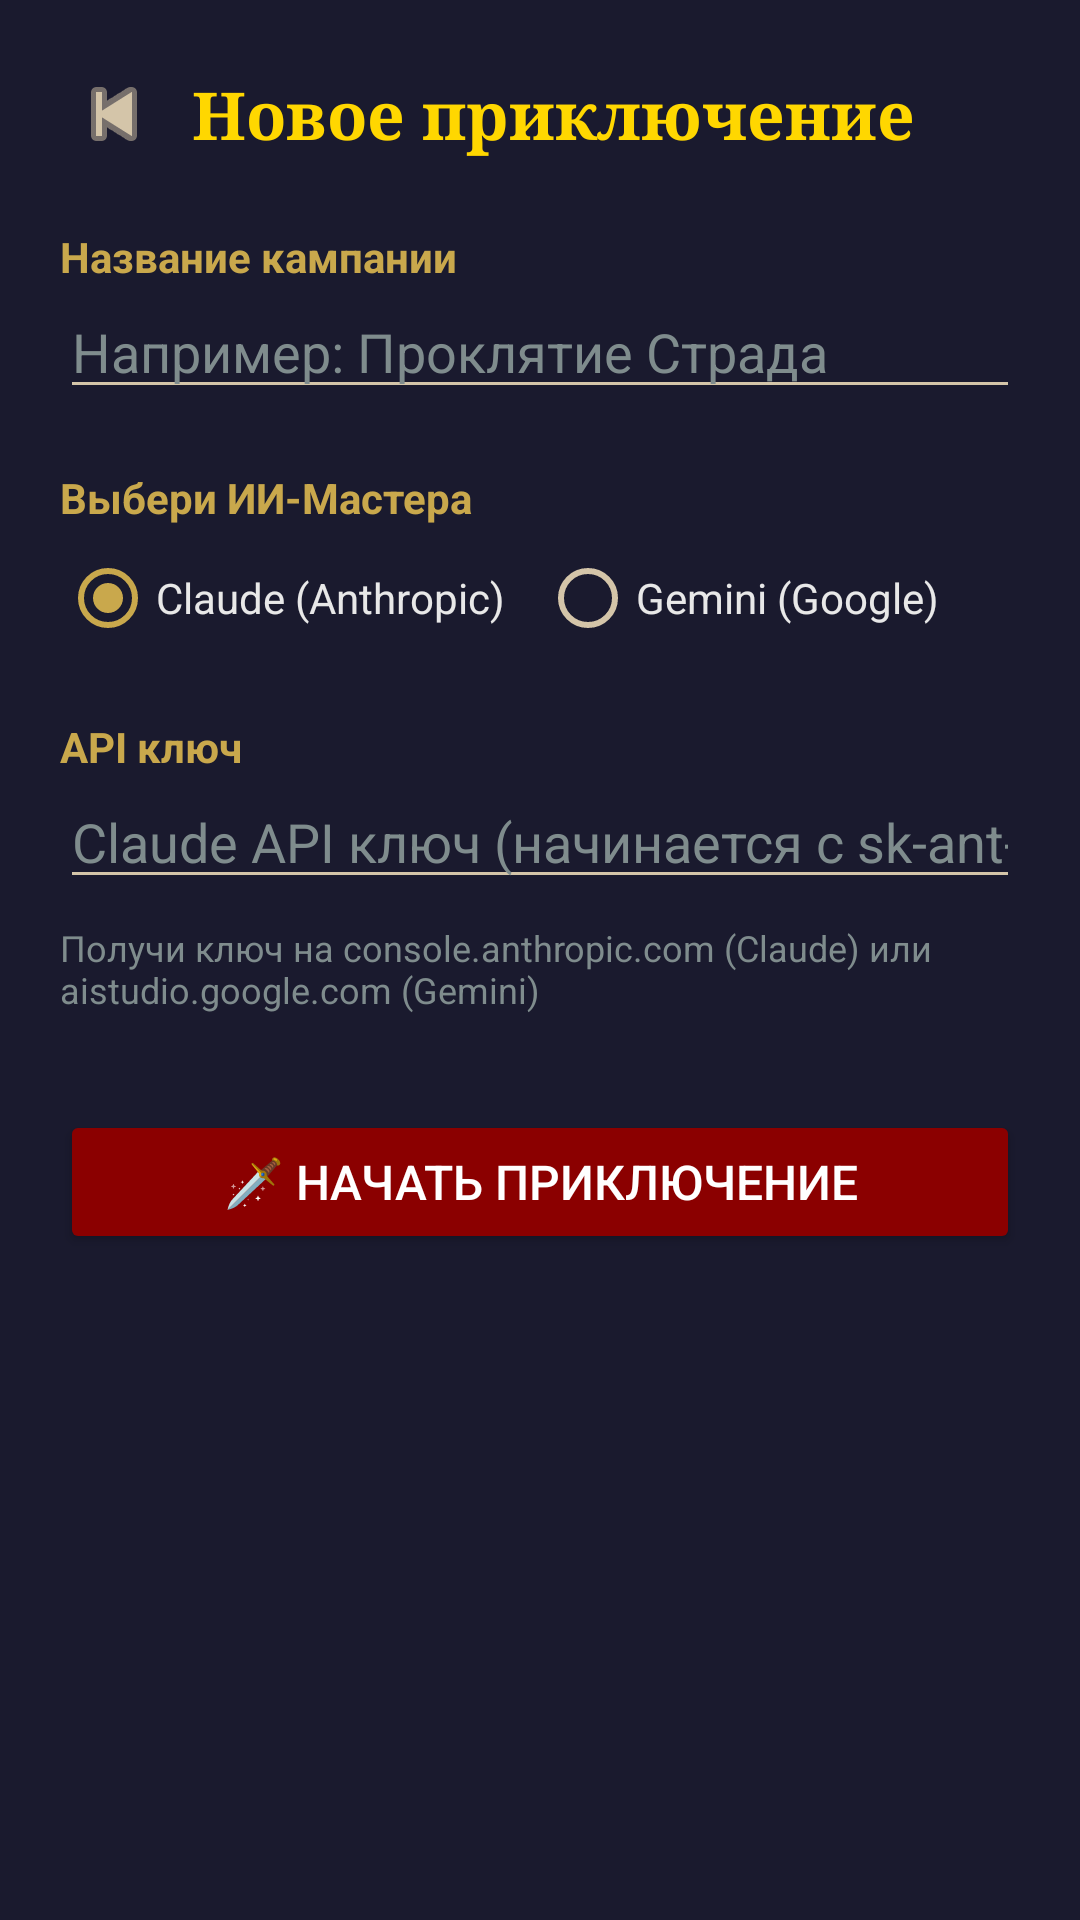

Where icons sit on this 1080x1920 app screen, as (x1, y1, x2, y2):
previous: (91, 87, 137, 141)
